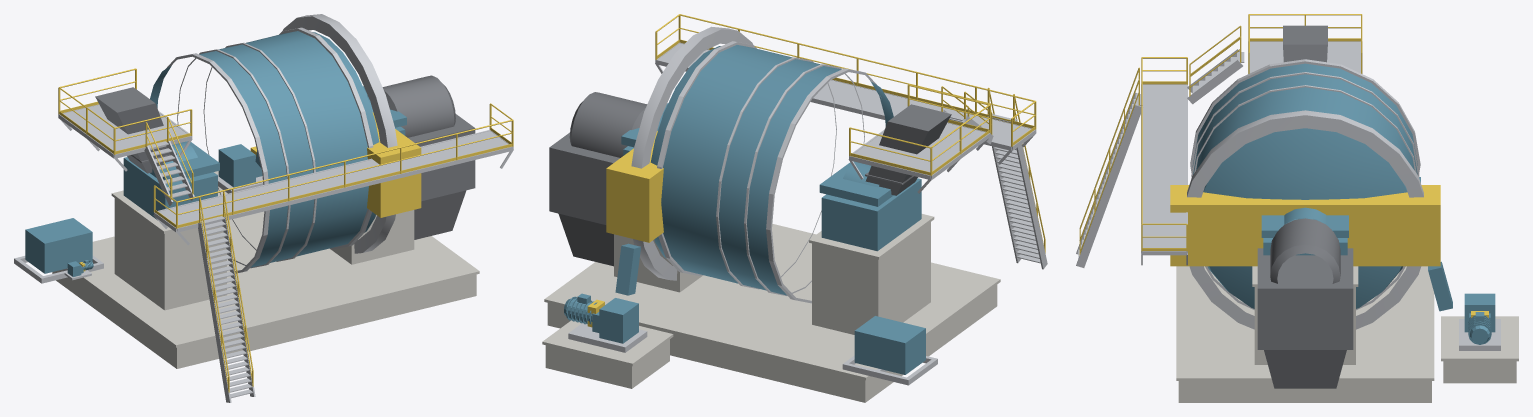
Rendered from ore-processing-and-haulage-plant-sag-mill-44da84c8.glb.
3 renders of one model, left to right at view 1: azimuth 30°, elevation 25°; view 2: azimuth 150°, elevation 25°; view 3: azimuth 270°, elevation 25°, orthographic. The views are drawn at different scales.
Visible parts, largest first — view 1: sag-mill, mill-shell (×2); view 2: sag-mill, mill-shell (×2); view 3: sag-mill, mill-shell (×2).
Boxes of the visible parts, box(x1,y1,x2,y2) form: sag-mill: box(14, 68, 513, 402); mill-shell (×2): box(150, 14, 397, 273); sag-mill: box(542, 14, 1047, 402); mill-shell (×2): box(631, 26, 893, 303); sag-mill: box(1076, 14, 1518, 402); mill-shell (×2): box(1187, 59, 1423, 329).
Size of the model in its own units: 15.7 by 9.82 by 15.72.
